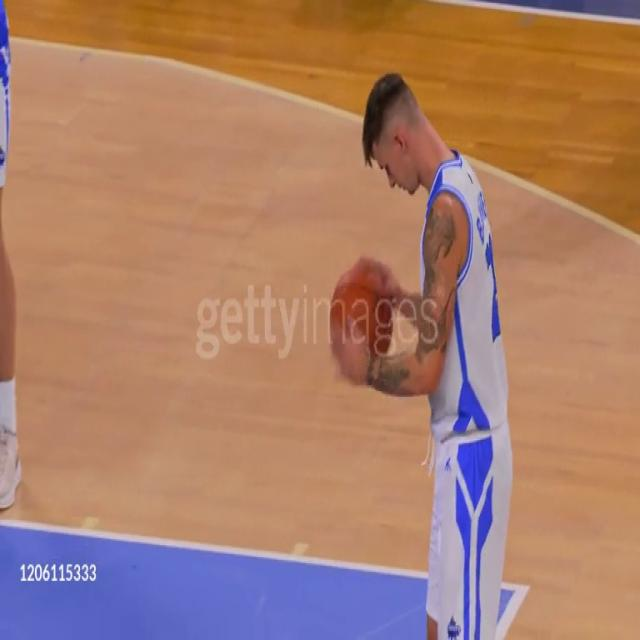ball: (329, 266, 394, 384)
